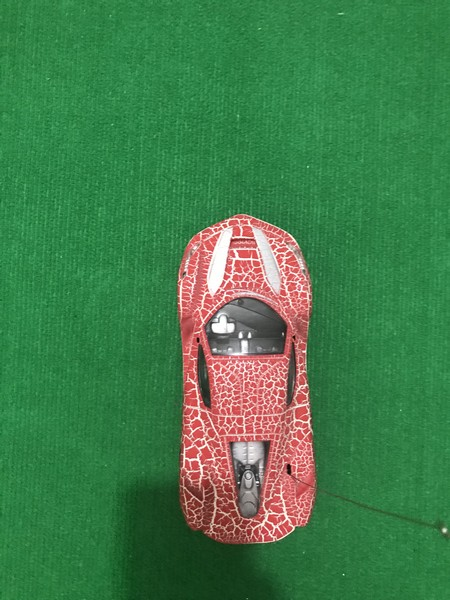RC: (173, 213, 321, 547)
